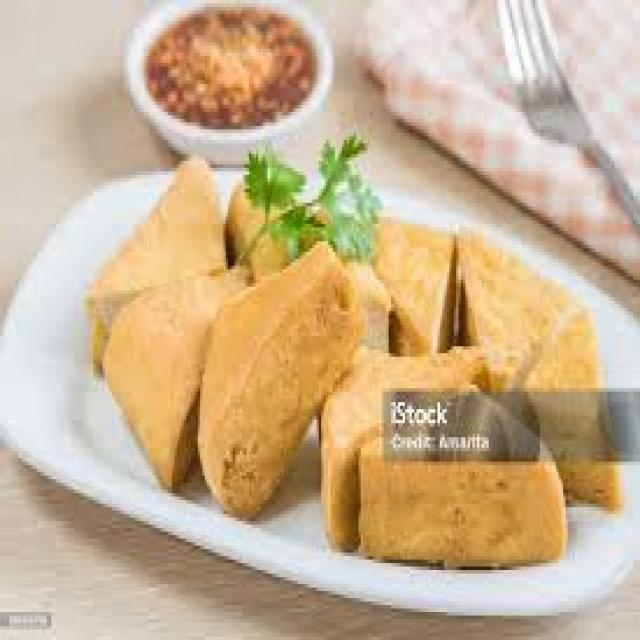tahu: (358, 200, 618, 463), (309, 340, 571, 580), (188, 226, 381, 479), (86, 145, 241, 397), (114, 272, 256, 496), (217, 167, 379, 337)
